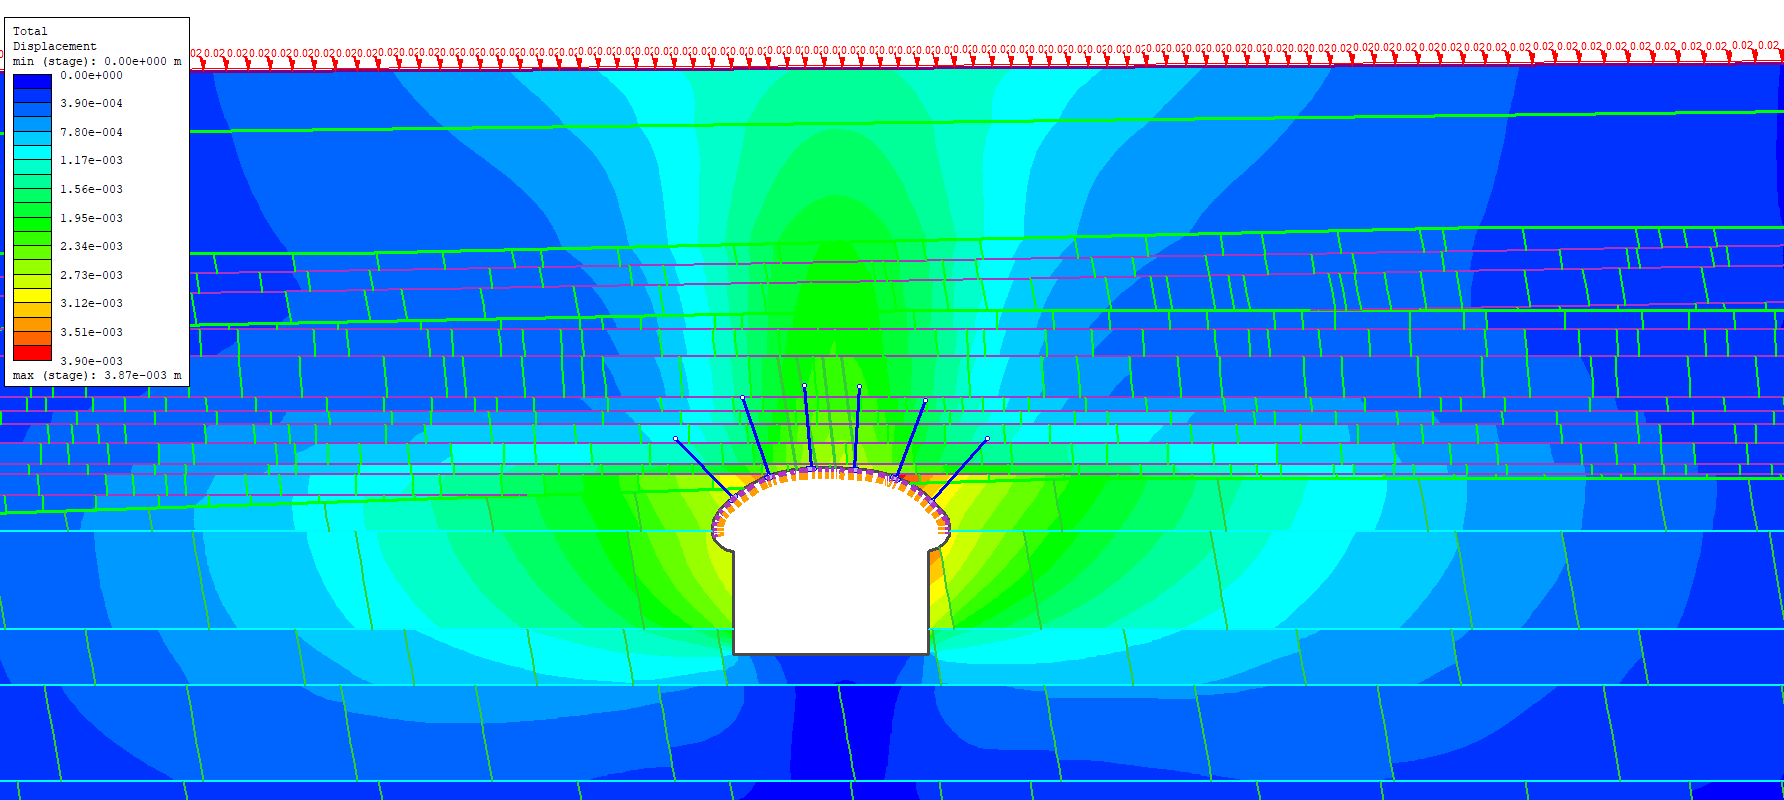crown: (782, 438, 876, 464)
label: (0, 20, 190, 386)
tunnel-opening: (715, 467, 953, 657)
